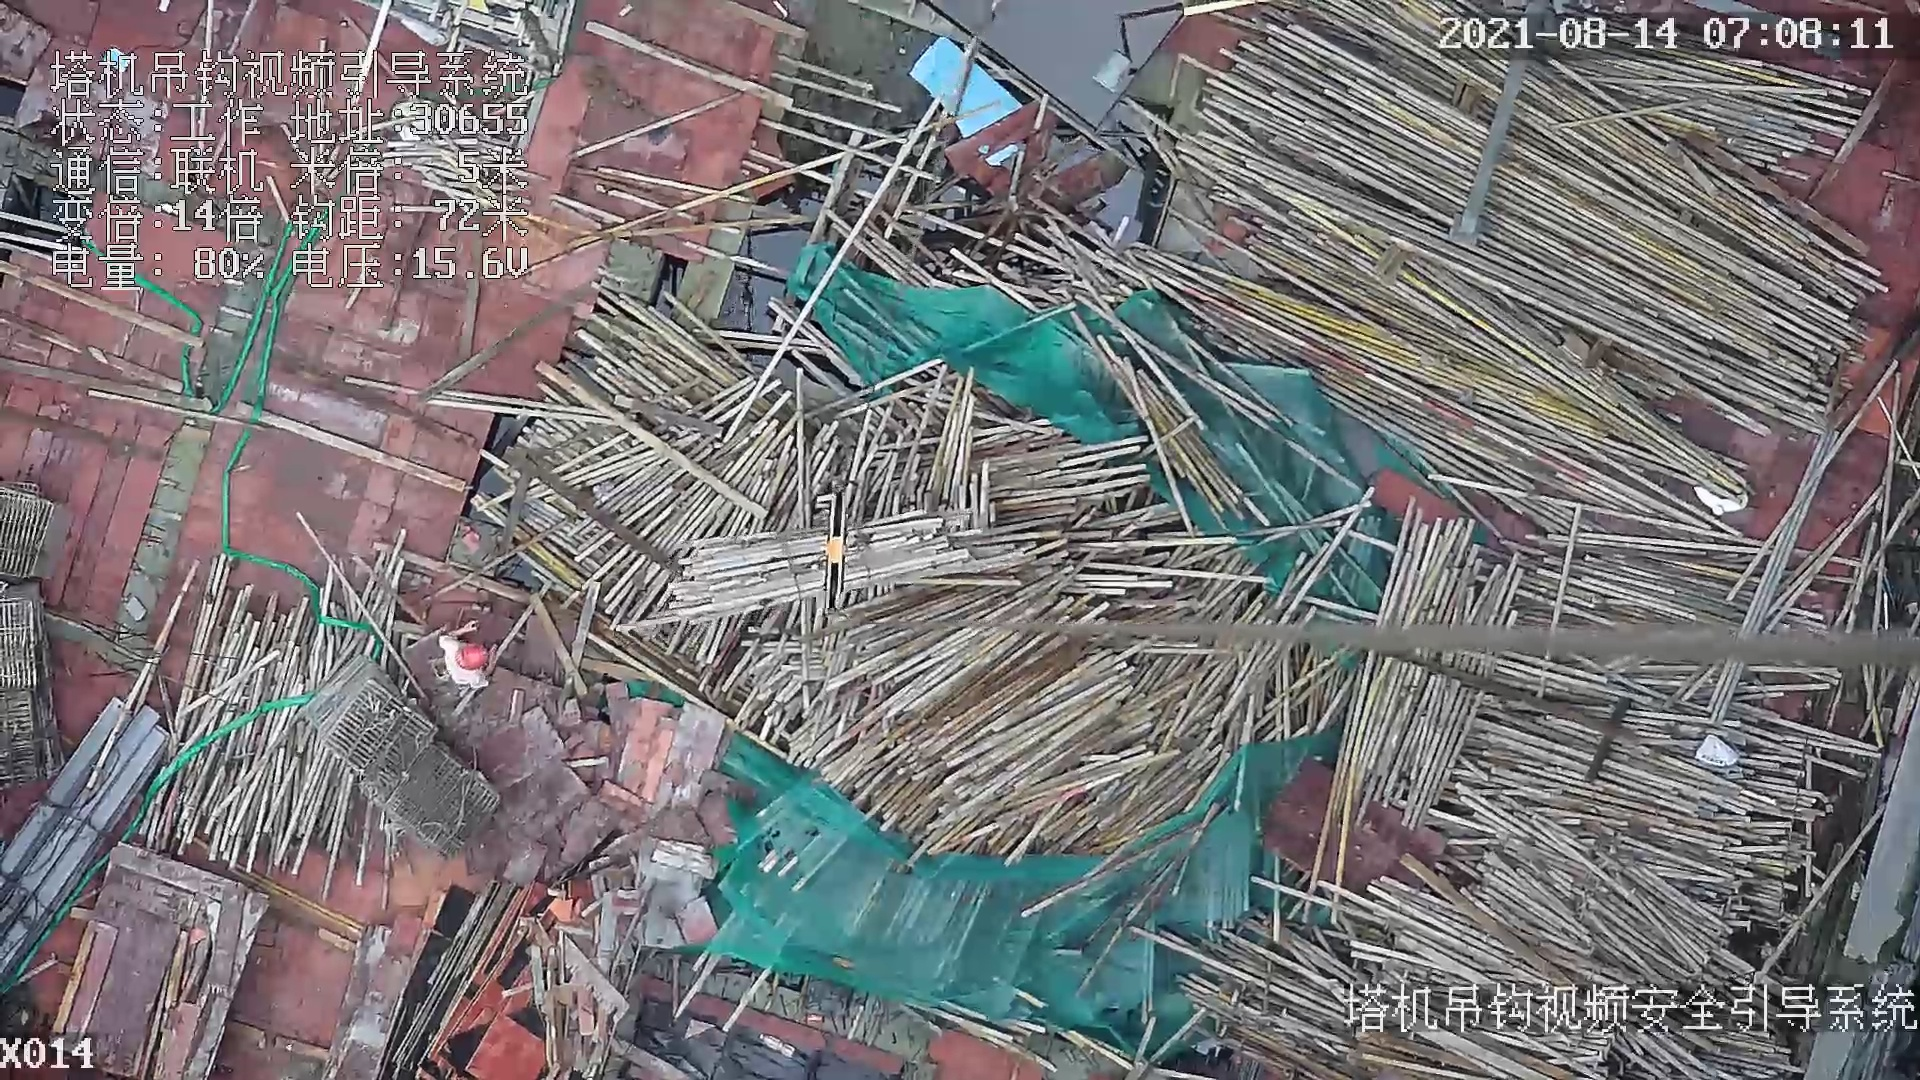helmet: (456, 642, 488, 670)
hook: (814, 487, 860, 626)
person: (442, 621, 500, 689)
